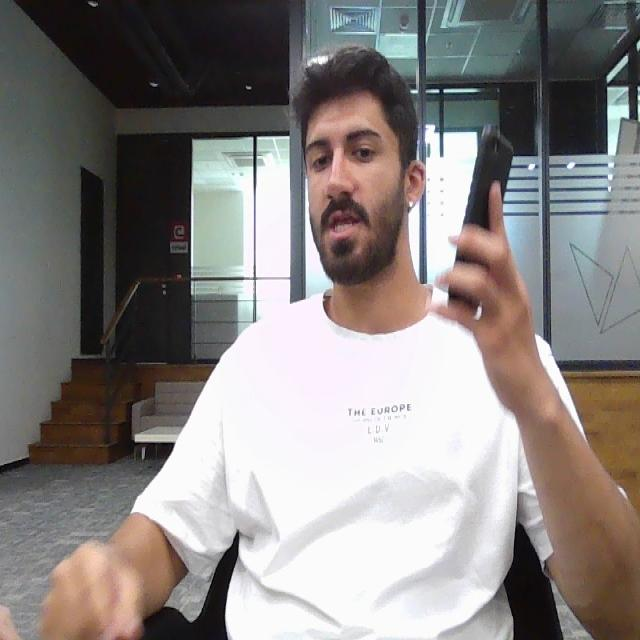phone: (445, 133, 508, 310)
